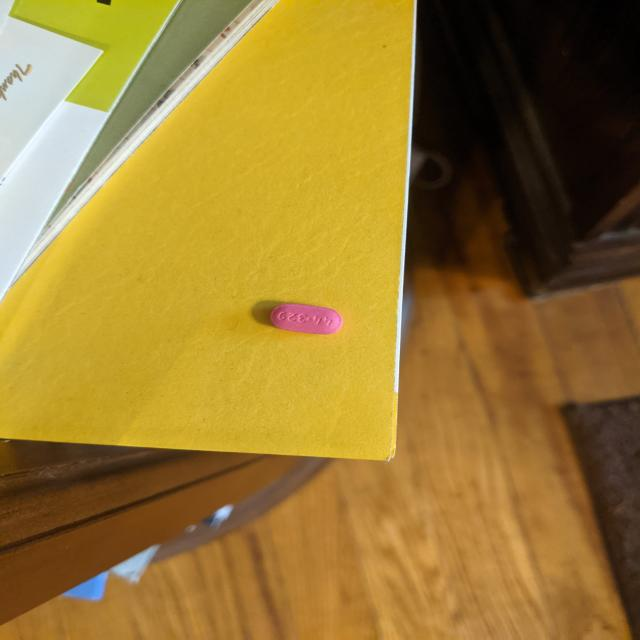non-organic waste: (269, 303, 344, 335)
